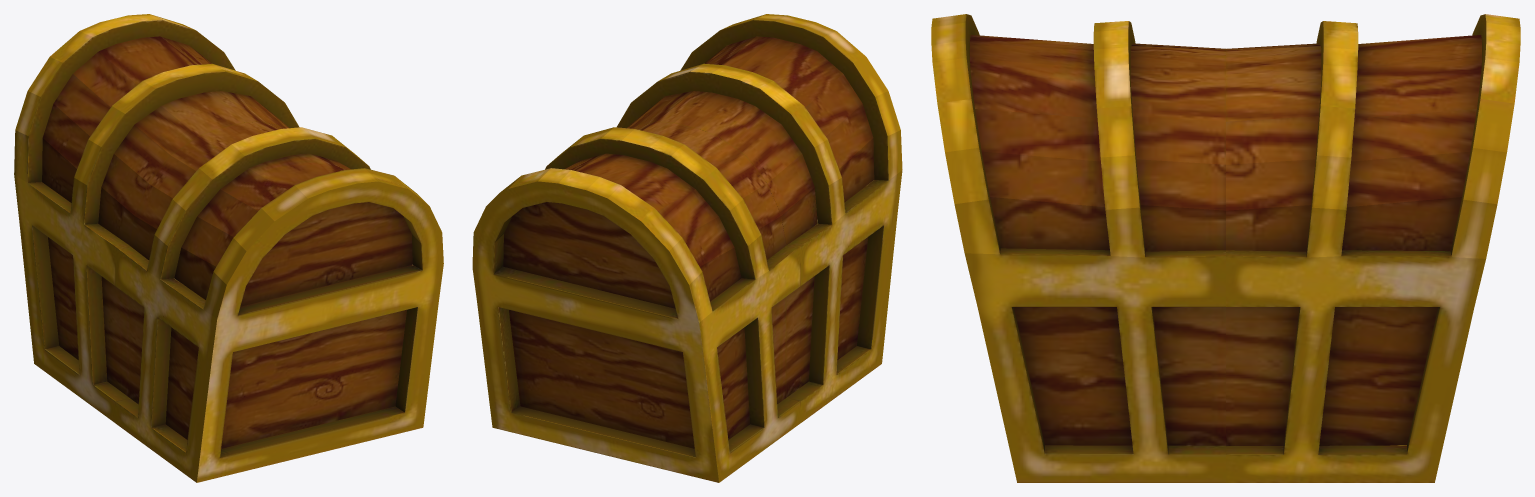
Rendered from Chest.fbx.
The picture shows the model from 3 angles, left to right: view 1: azimuth 30°, elevation 25°; view 2: azimuth 150°, elevation 25°; view 3: azimuth 270°, elevation 25°; orthographic projection. The views are drawn at different scales.
Visible parts, largest first — view 1: Chest; view 2: Chest; view 3: Chest.
Part boxes in pixels (box(x1,y1,x2,y2)): Chest: box(14, 14, 443, 482); Chest: box(472, 14, 902, 482); Chest: box(931, 14, 1520, 482).
Size of the model in its own units: 6.02 by 10.55 by 7.52.
